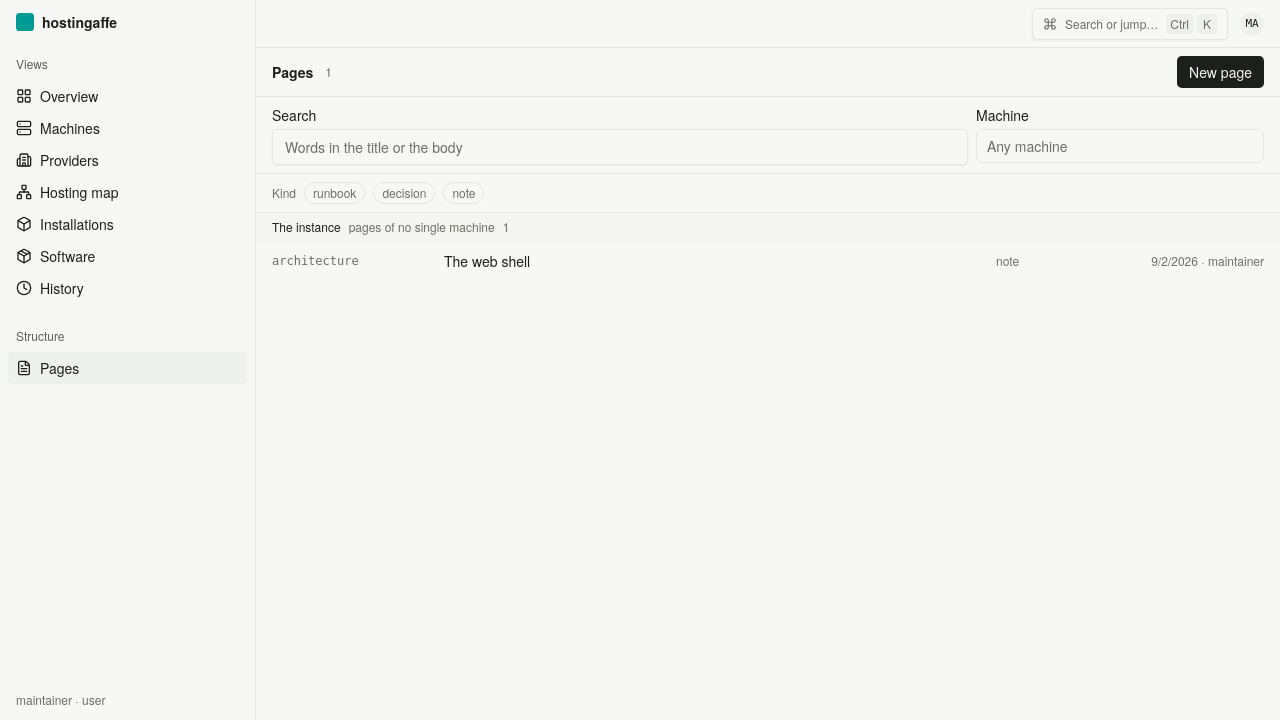
the shell (ADR 0006) › shows who is signed in, top right
This screenshot has width=1280, height=720.
Click the button with aria-label "Account: maintainer" at (1252, 24), box x1=1236 y1=8 x2=1268 y2=40
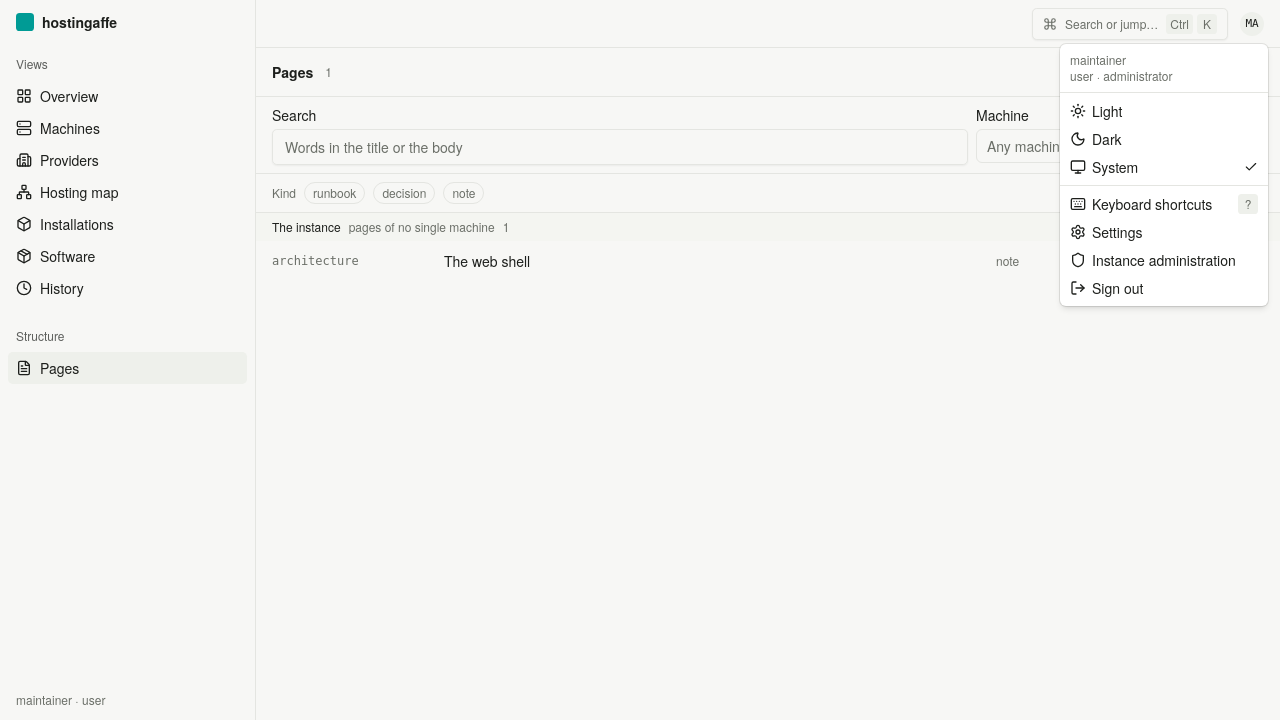
Expected: the menu item "Sign out" is shown, x1=1070 y1=278 x2=1143 y2=298
Expected: the text "user · administrator" is shown, x1=1070 y1=67 x2=1172 y2=84
